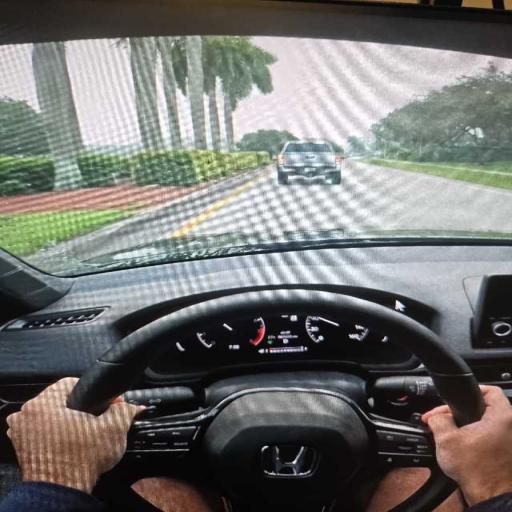car: (0, 0, 511, 511), (277, 140, 341, 184)
lane: (193, 160, 511, 234)
person: (0, 379, 140, 511)
